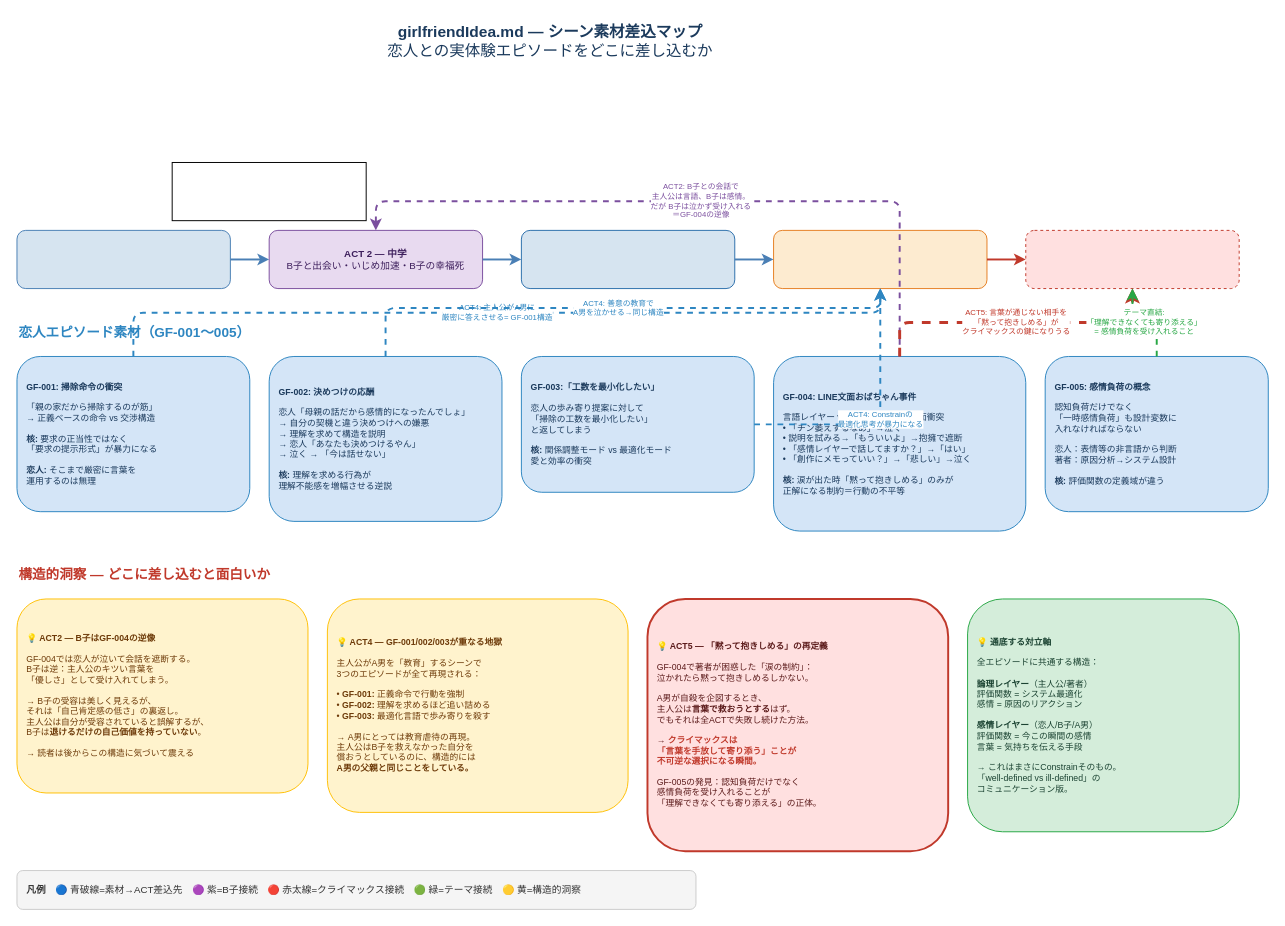
Image size: 1285x926. Some labels were removed from this diagram. The shapes that lost their labels are listed below. From the top down, each one's box as (x1, y1, x2, y2) in pixels, then its label:
(171, 162, 366, 221): 主人公がA君に 思っている感情が弱いのでは？
(16, 229, 230, 289): ACT 1 — 小学生 ASD疎外・父の教え・A男嫉妬・父の死
(520, 229, 735, 289): ACT 3 — 灘～東大 エリート適応・厳密さへの確信
(773, 229, 987, 289): ACT 4 — 社会人 Google Japan・善意の教育・A男崩壊
(1025, 229, 1239, 289): ACT 5 — クライマックス A男自殺企図・主人公の選択
